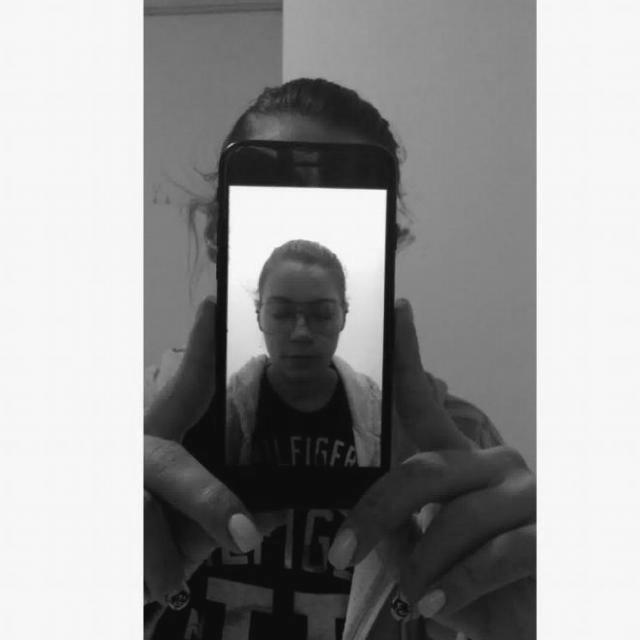fake: (206, 130, 404, 522)
